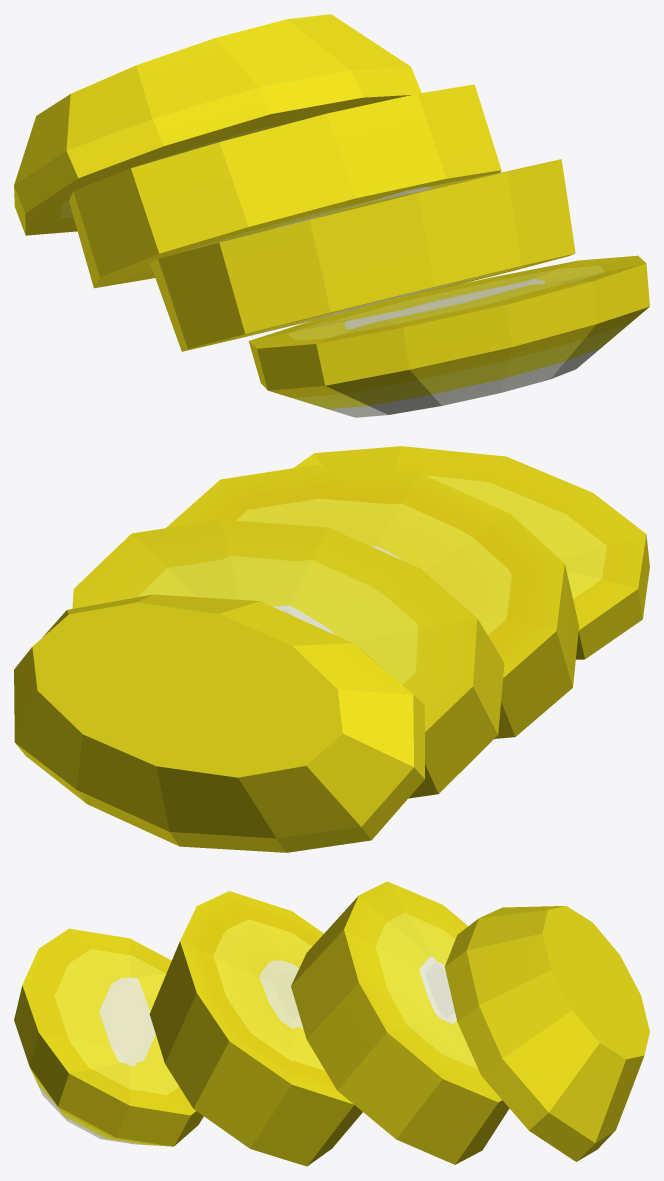
The model's file is Corn_Cutted.fbx.
The picture shows the model from 3 angles, top to bottom: view 1: azimuth 30°, elevation 25°; view 2: azimuth 150°, elevation 25°; view 3: azimuth 270°, elevation 25°; orthographic projection. The views are drawn at different scales.
Parts seen in each view (by area): view 1: Corn_cutted; view 2: Corn_cutted; view 3: Corn_cutted.
Part boxes in pixels (left/top/right/bottom): Corn_cutted: left=14, top=14, right=649, bottom=417; Corn_cutted: left=14, top=446, right=649, bottom=852; Corn_cutted: left=14, top=881, right=649, bottom=1166.
Bounding box in the file's own units: 147 × 226 × 73.78.
